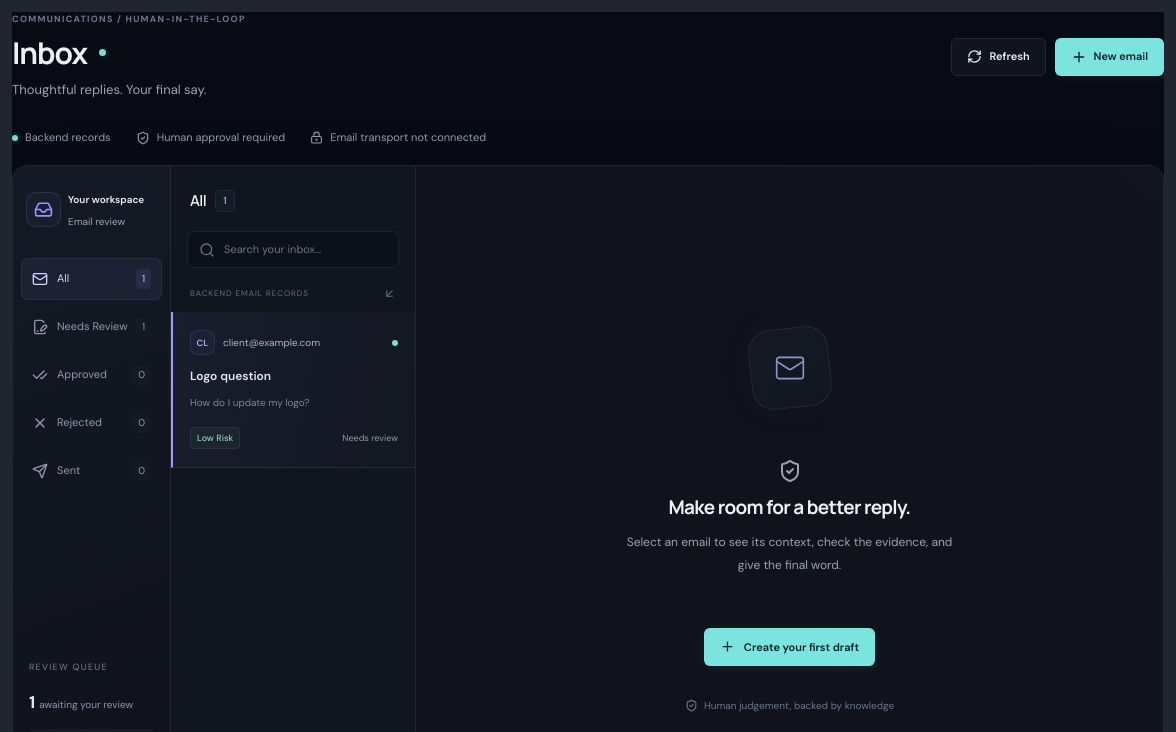
Test: working product screens › filters sent messages honestly and supports email search
Expected: the button "Logo question" is shown, [171,312,415,468]
In the search field named "Search emails": coordinates (306, 250) [224,241,387,258], type "no-match"
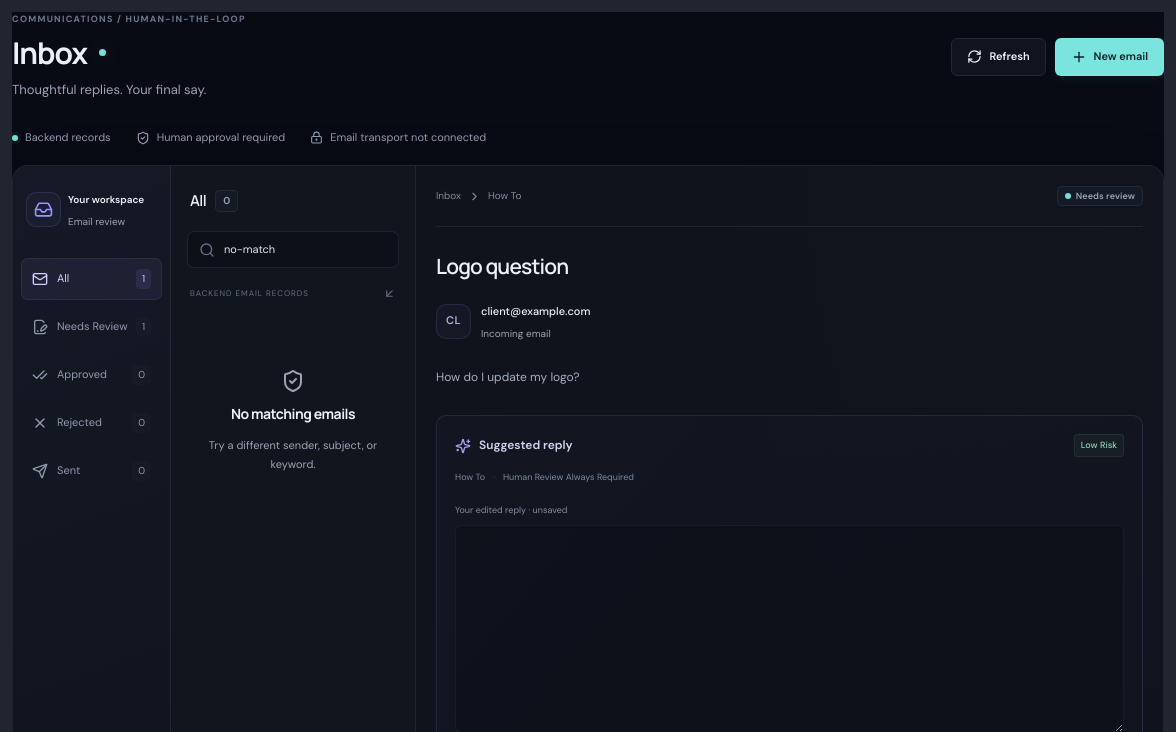
Now the heading "No matching emails" is shown, box [231,406,355,424]
Click the button "Sent 0": coordinates (92, 471) [21,450,162,492]
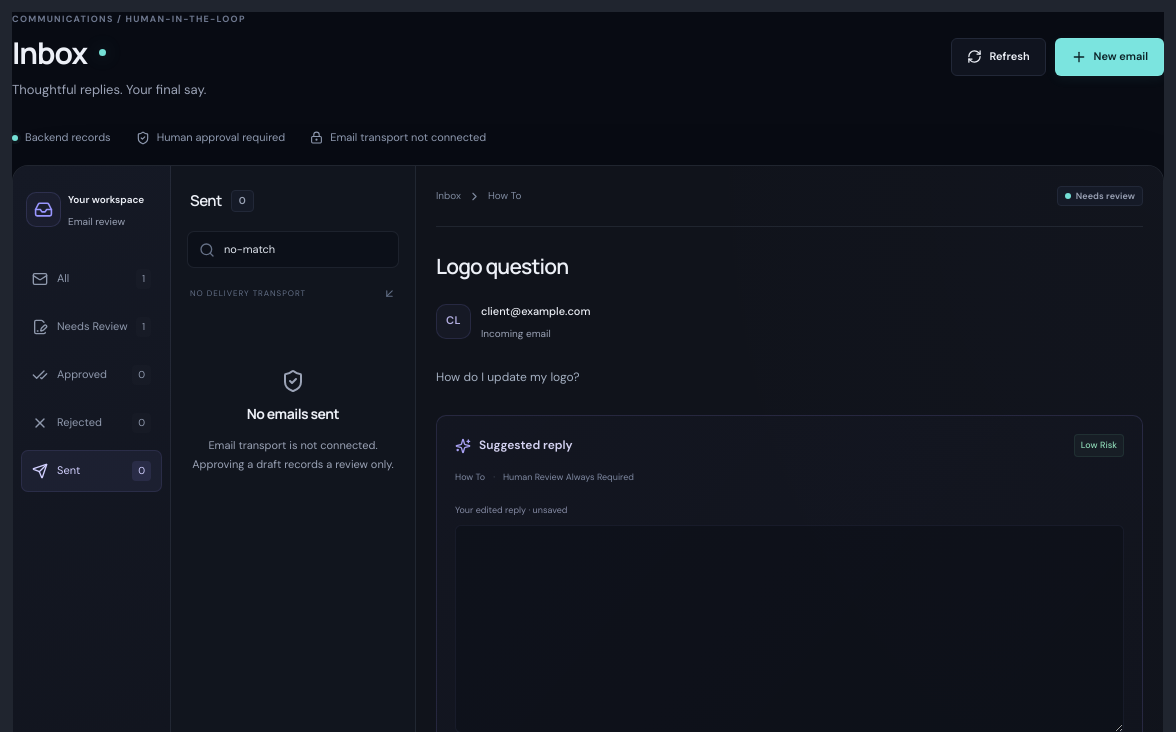
Now the heading "No emails sent" is shown, box [247,406,339,424]
